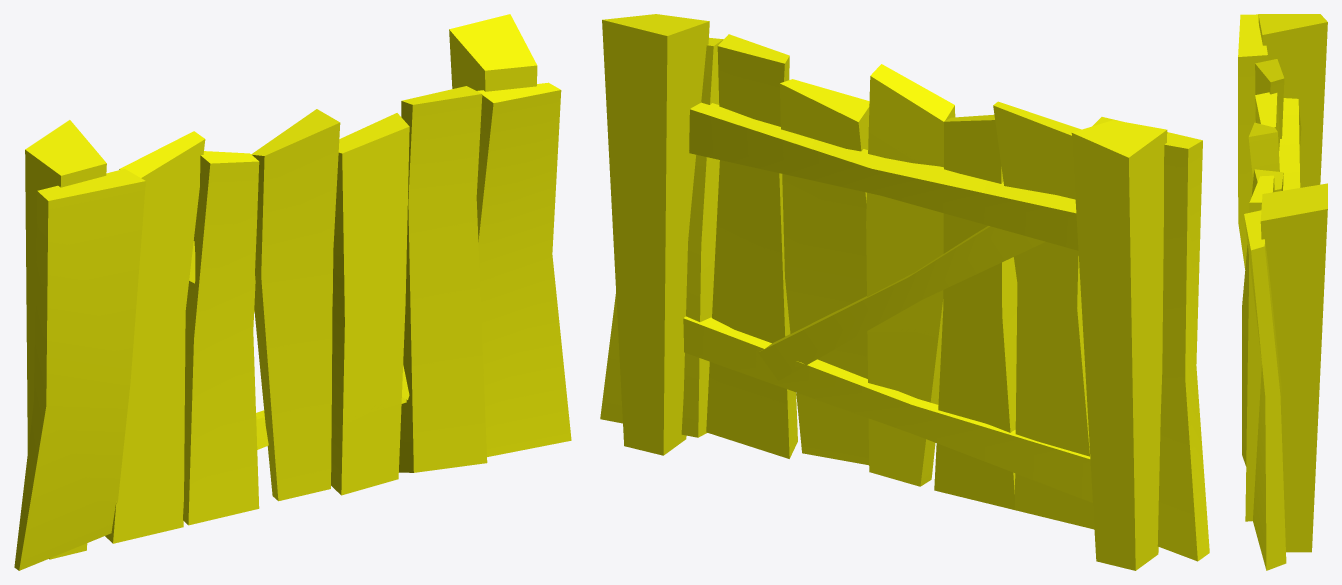
Rendered from SM_PROP_fence_v01_01.glb.
The picture shows the model from 3 angles, left to right: view 1: azimuth 30°, elevation 25°; view 2: azimuth 150°, elevation 25°; view 3: azimuth 270°, elevation 25°; orthographic projection. The views are drawn at different scales.
Visible parts, largest first — view 1: SM_PROP_fence_v01_01; view 2: SM_PROP_fence_v01_01; view 3: SM_PROP_fence_v01_01.
Boxes of the visible parts, left/top/right/bottom form: SM_PROP_fence_v01_01: left=14, top=14, right=571, bottom=570; SM_PROP_fence_v01_01: left=600, top=14, right=1209, bottom=570; SM_PROP_fence_v01_01: left=1238, top=14, right=1327, bottom=570.
Bounding box in the file's own units: 2.86 × 2.01 × 0.4643.
Materials: 3 (3 with a texture image).
